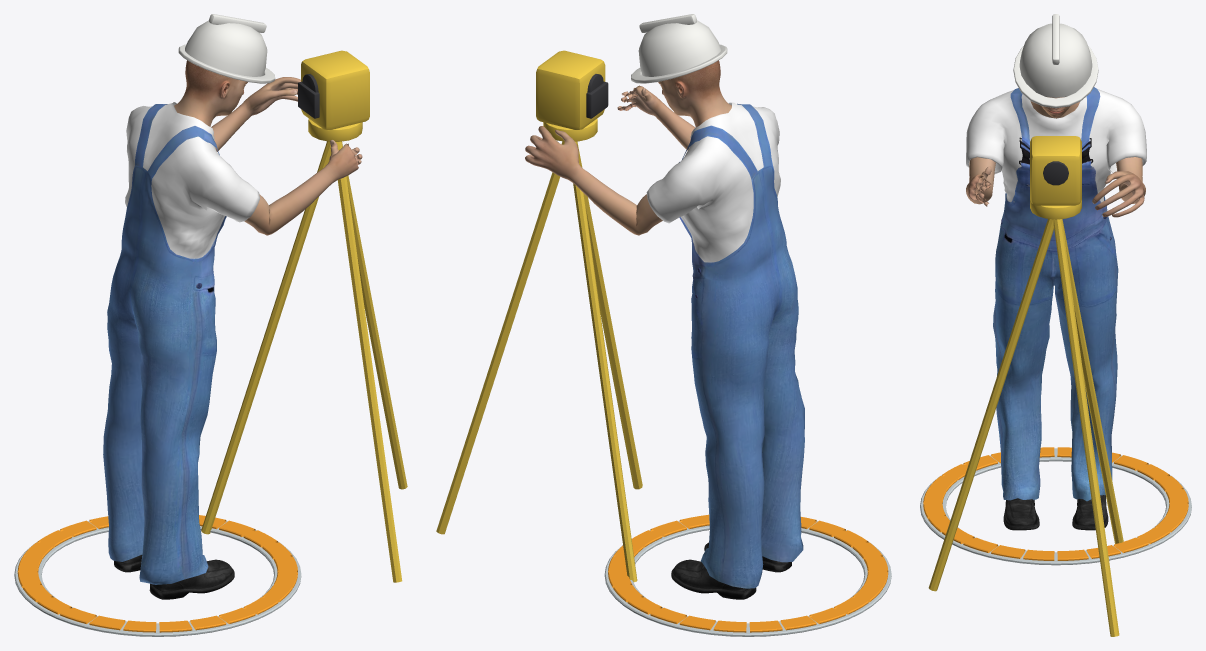
File: MDO-TEC-005.glb
3 views of the same model, side by side, from view 1: azimuth 30°, elevation 25°; view 2: azimuth 150°, elevation 25°; view 3: azimuth 270°, elevation 25° (orthographic). The views are drawn at different scales.
Visible parts, largest first — view 1: MDO-TEC-005_pessoa_male_worksuit01, MDO-TEC-005_pessoa, MDO-TEC-005_ferX_estacao, MDO-TEC-005_ferX_perna2, MDO-TEC-005_ferX_perna1, MDO-TEC-005_capacete, MDO-TEC-005_anel_fundo, MDO-TEC-005_ferX_perna0, MDO-TEC-005_pessoa_shoes04, MDO-TEC-005_ferX_prato, MDO-TEC-005_capacete_aba, MDO-TEC-005_ferX_visor; view 2: MDO-TEC-005_pessoa_male_worksuit01, MDO-TEC-005_pessoa, MDO-TEC-005_ferX_estacao, MDO-TEC-005_ferX_perna1, MDO-TEC-005_ferX_perna0, MDO-TEC-005_capacete, MDO-TEC-005_anel_fundo, MDO-TEC-005_ferX_perna2, MDO-TEC-005_pessoa_shoes04, MDO-TEC-005_capacete_aba; view 3: MDO-TEC-005_pessoa_male_worksuit01, MDO-TEC-005_ferX_perna0, MDO-TEC-005_capacete, MDO-TEC-005_ferX_perna2, MDO-TEC-005_pessoa, MDO-TEC-005_ferX_estacao, MDO-TEC-005_anel_fundo, MDO-TEC-005_ferX_perna1, MDO-TEC-005_pessoa_shoes04, MDO-TEC-005_capacete_aba, MDO-TEC-005_ferX_prato, MDO-TEC-005_ferX_luneta (+1 smaller).
Part boxes in pixels (x1,y1,x2,y2): MDO-TEC-005_pessoa_male_worksuit01: (103, 102, 259, 584); MDO-TEC-005_pessoa: (174, 60, 362, 235); MDO-TEC-005_ferX_estacao: (301, 50, 369, 130); MDO-TEC-005_ferX_perna2: (335, 141, 402, 582); MDO-TEC-005_ferX_perna1: (201, 141, 331, 534); MDO-TEC-005_capacete: (185, 20, 267, 76); MDO-TEC-005_anel_fundo: (14, 521, 301, 636); MDO-TEC-005_ferX_perna0: (341, 142, 407, 489); MDO-TEC-005_pessoa_shoes04: (114, 555, 234, 599); MDO-TEC-005_ferX_prato: (308, 118, 362, 141); MDO-TEC-005_capacete_aba: (178, 44, 275, 83); MDO-TEC-005_ferX_visor: (298, 81, 319, 118); MDO-TEC-005_pessoa_male_worksuit01: (646, 102, 804, 588); MDO-TEC-005_pessoa: (525, 60, 731, 235); MDO-TEC-005_ferX_estacao: (536, 50, 605, 130); MDO-TEC-005_ferX_perna1: (573, 141, 637, 582); MDO-TEC-005_ferX_perna0: (436, 141, 564, 534); MDO-TEC-005_capacete: (638, 20, 721, 76); MDO-TEC-005_anel_fundo: (604, 521, 891, 636); MDO-TEC-005_ferX_perna2: (577, 142, 642, 489); MDO-TEC-005_pessoa_shoes04: (671, 542, 791, 599); MDO-TEC-005_capacete_aba: (631, 44, 727, 83); MDO-TEC-005_pessoa_male_worksuit01: (966, 87, 1146, 501); MDO-TEC-005_ferX_perna0: (1053, 219, 1119, 636); MDO-TEC-005_capacete: (1019, 23, 1092, 97); MDO-TEC-005_ferX_perna2: (928, 219, 1053, 591); MDO-TEC-005_pessoa: (966, 96, 1145, 217); MDO-TEC-005_ferX_estacao: (1030, 136, 1081, 205); MDO-TEC-005_anel_fundo: (920, 448, 1191, 565); MDO-TEC-005_ferX_perna1: (1062, 219, 1123, 543); MDO-TEC-005_pessoa_shoes04: (1003, 495, 1108, 530); MDO-TEC-005_capacete_aba: (1013, 46, 1098, 108); MDO-TEC-005_ferX_prato: (1030, 200, 1081, 219); MDO-TEC-005_ferX_luneta: (1043, 161, 1068, 185).
Size of the model in its own units: 1.37 by 1.78 by 0.84.
Materials: 10 (5 with a texture image).
